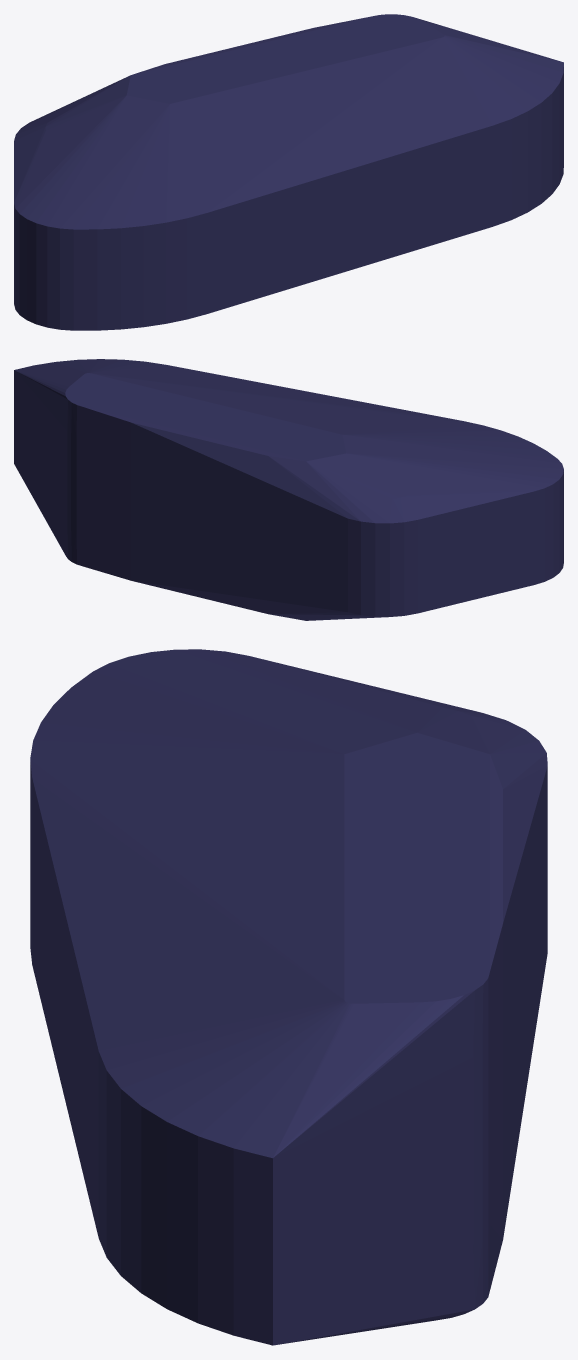
3 renders of one model, top to bottom at view 1: azimuth 30°, elevation 25°; view 2: azimuth 150°, elevation 25°; view 3: azimuth 270°, elevation 25°, orthographic. The views are drawn at different scales.
Parts seen in each view (by area): view 1: link_1; view 2: link_1; view 3: link_1.
Part boxes in pixels (bbox=[...]): link_1: bbox=[14, 14, 563, 330]; link_1: bbox=[14, 359, 563, 620]; link_1: bbox=[30, 649, 547, 1345].
Size of the model in its own units: 0.1051 by 0.0452 by 0.0307.
